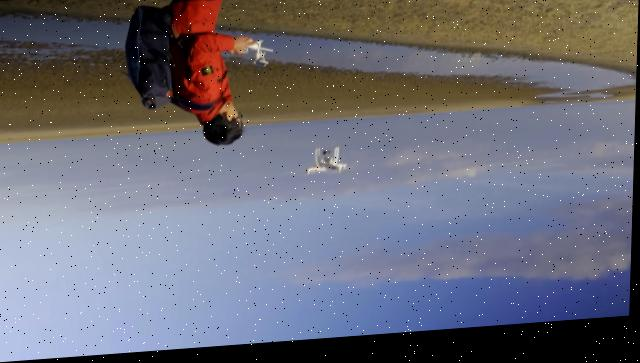drone: (304, 149, 350, 183)
